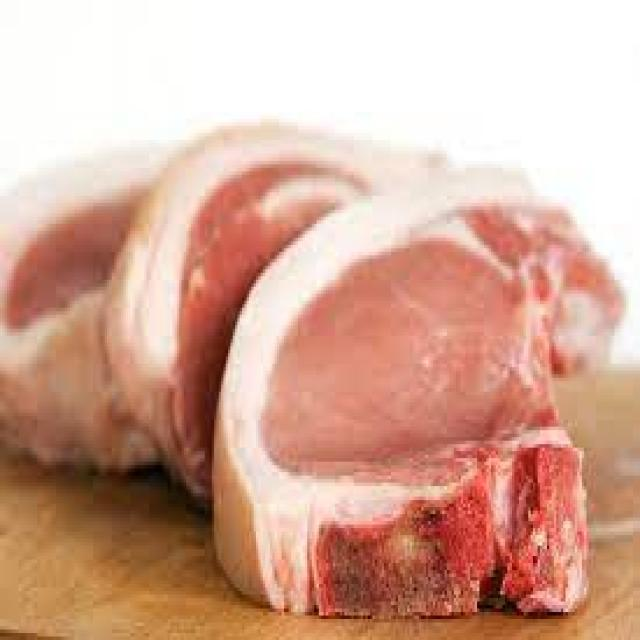Pork: (107, 124, 623, 615), (6, 191, 145, 326)
